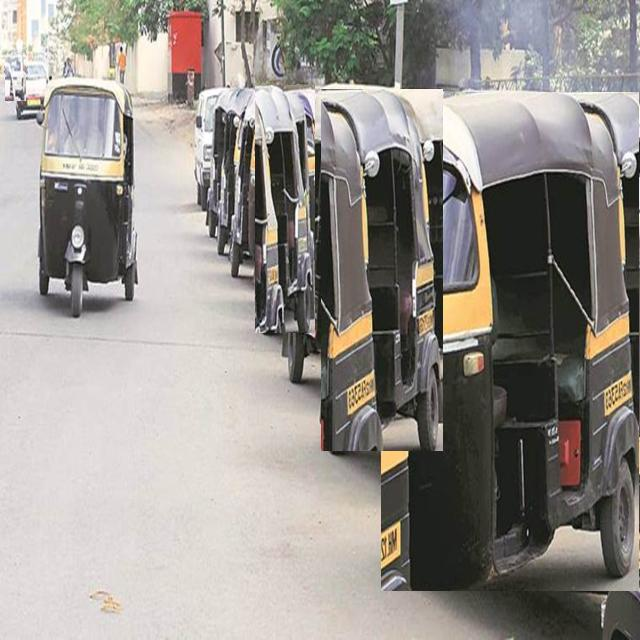autorickshaw: (381, 93, 640, 591), (321, 90, 443, 451), (285, 83, 377, 382), (38, 79, 138, 317), (255, 86, 315, 333), (230, 90, 272, 277)
car: (195, 88, 220, 210), (16, 63, 48, 118), (5, 54, 26, 101)
